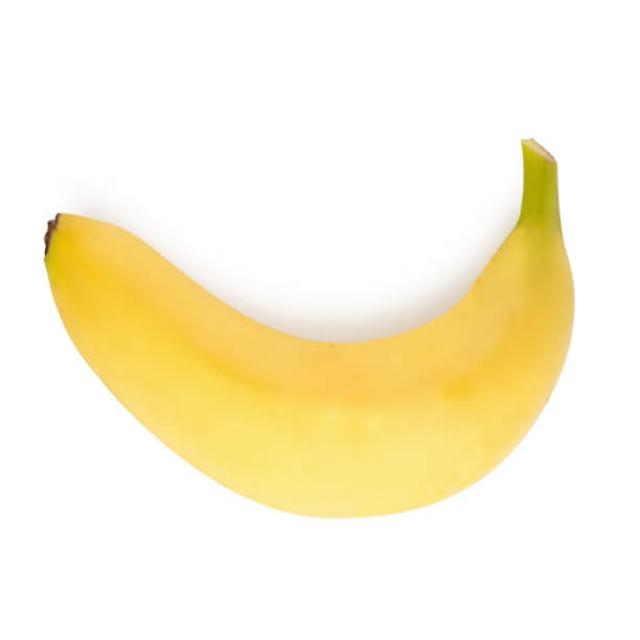Ripe: (38, 129, 579, 523)
